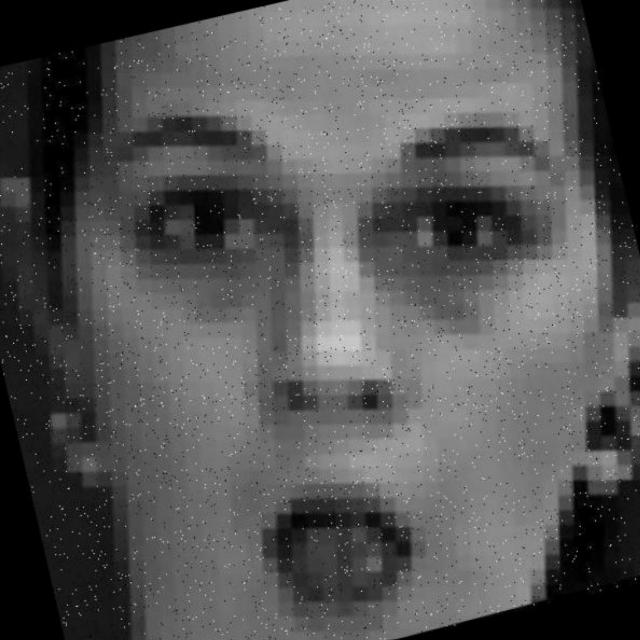Surprised: (10, 71, 639, 640)
